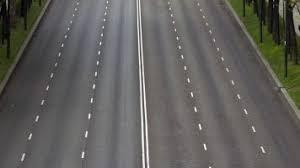field: (229, 0, 299, 108)
road: (141, 0, 299, 167), (0, 0, 141, 166)
